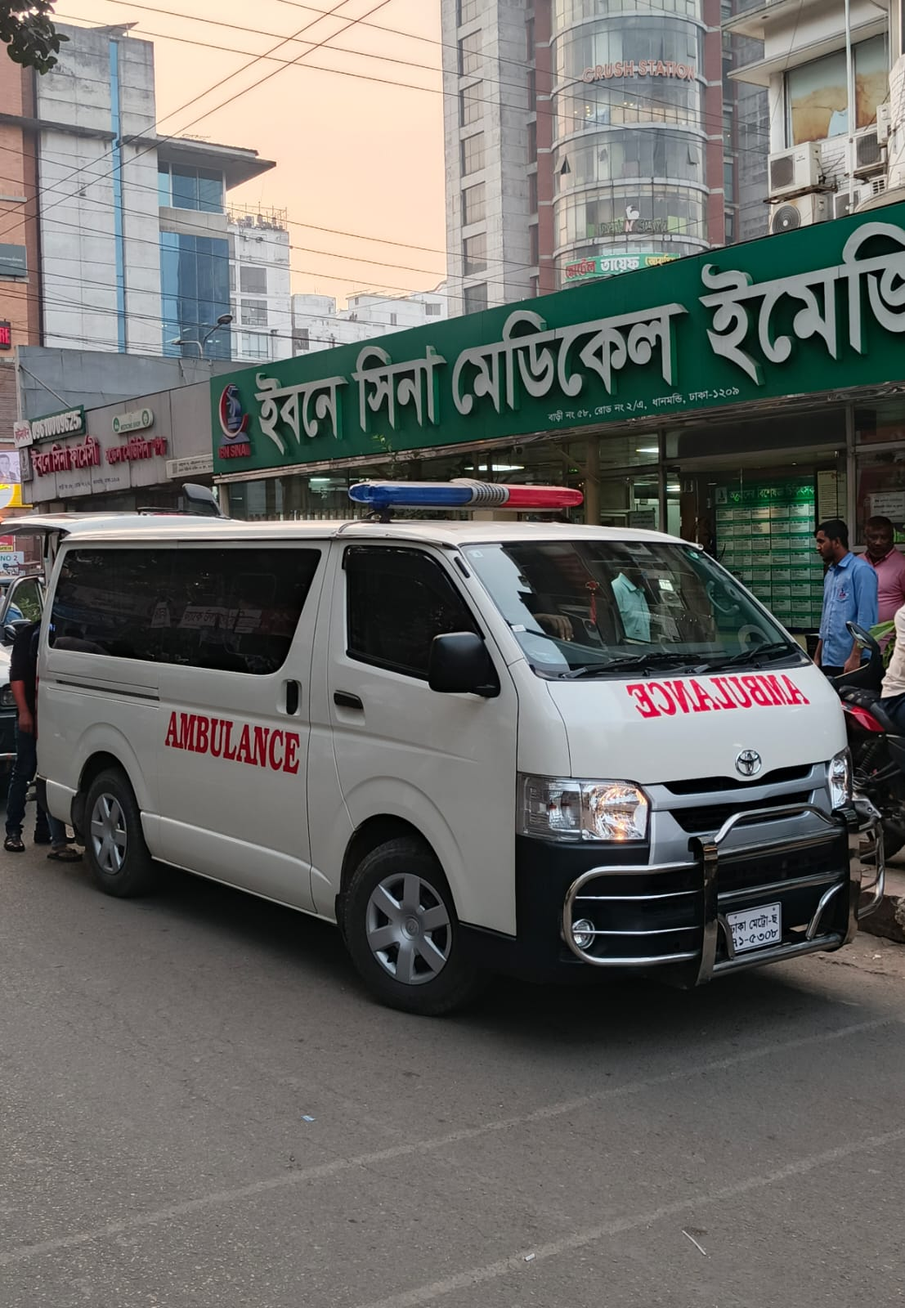Ambulance: (25, 458, 882, 1039)
